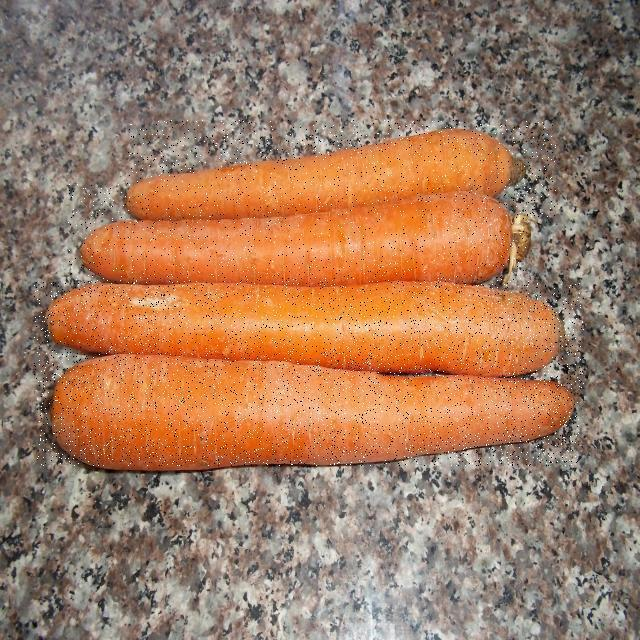Zanahoria: (37, 351, 579, 466), (35, 280, 585, 389), (69, 181, 527, 288), (128, 120, 556, 217)
